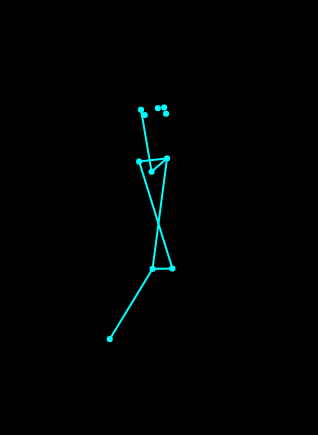warrior_1: (93, 91, 196, 356)
